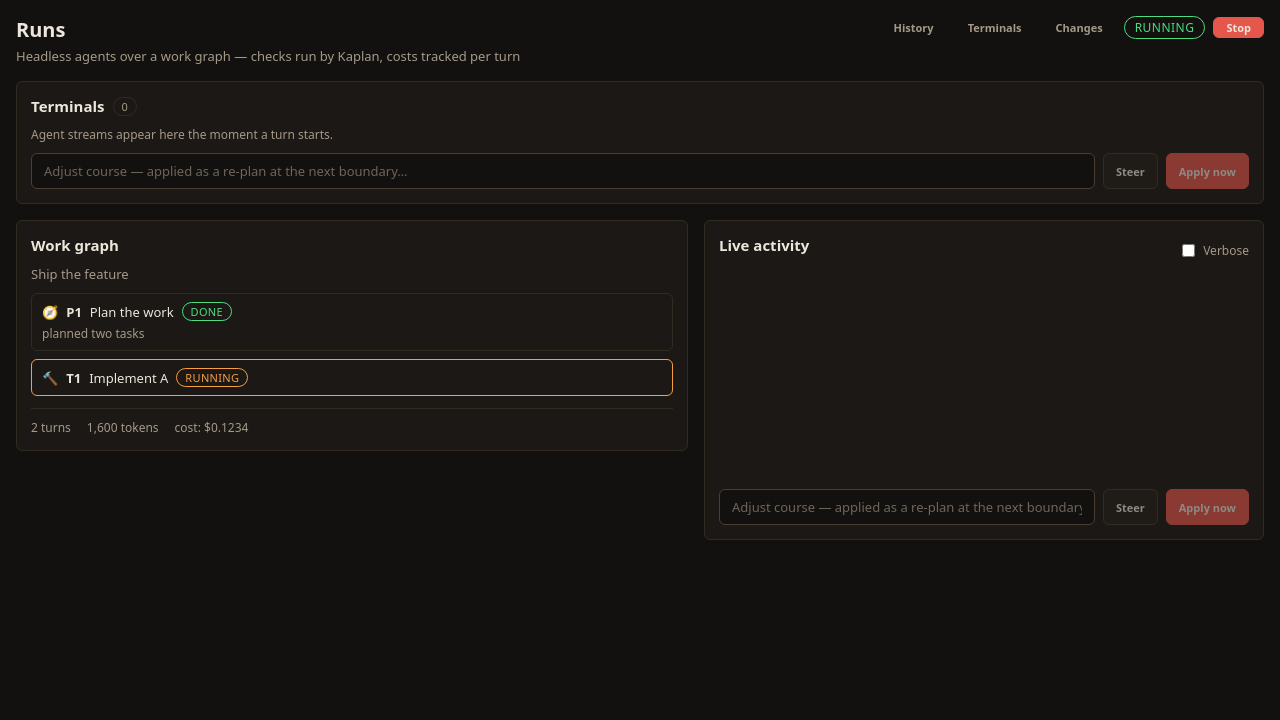
Test: RunView › fetches and shows the changes panel on toggle
Click the button with test id "run-toggle-changes" at (1079, 28), box [1043, 17, 1116, 38]
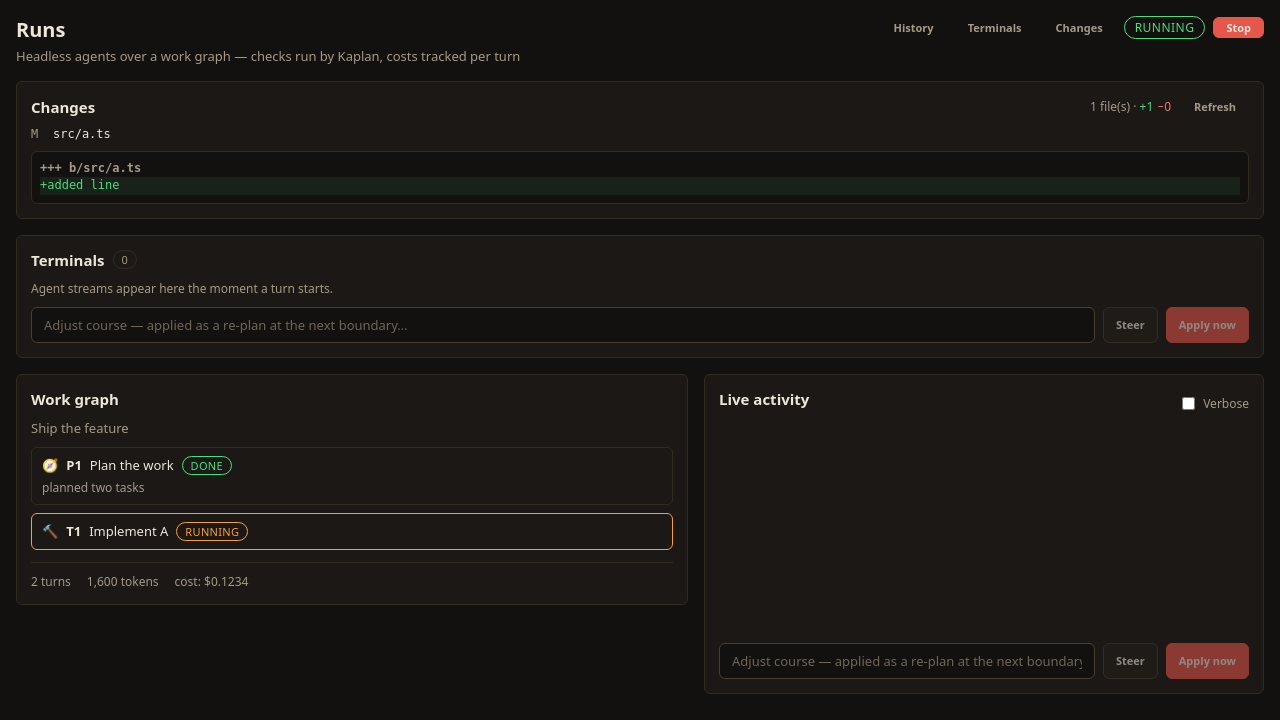
Now the element with test id "run-changes" is shown, box [16, 81, 1264, 219]
Now the element with test id "run-changes" shows "src/a.ts", box [53, 127, 111, 141]
